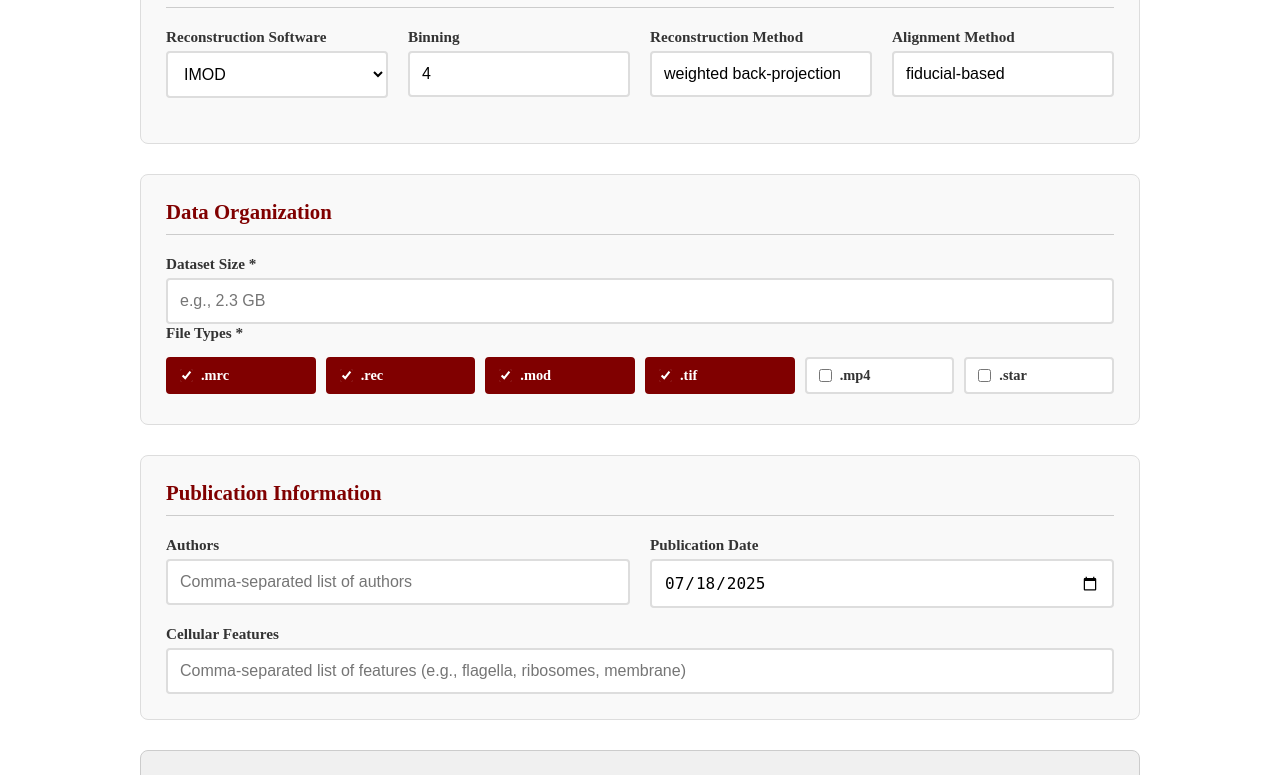
it: AddDatasetForm › Form Validation › should validate that at least one file type is selected
The image size is (1280, 775).
(page scrolled)
# Uncheck all default file types
Click the checkbox labelled ".mrc": [186, 376] box [180,369,193,382]
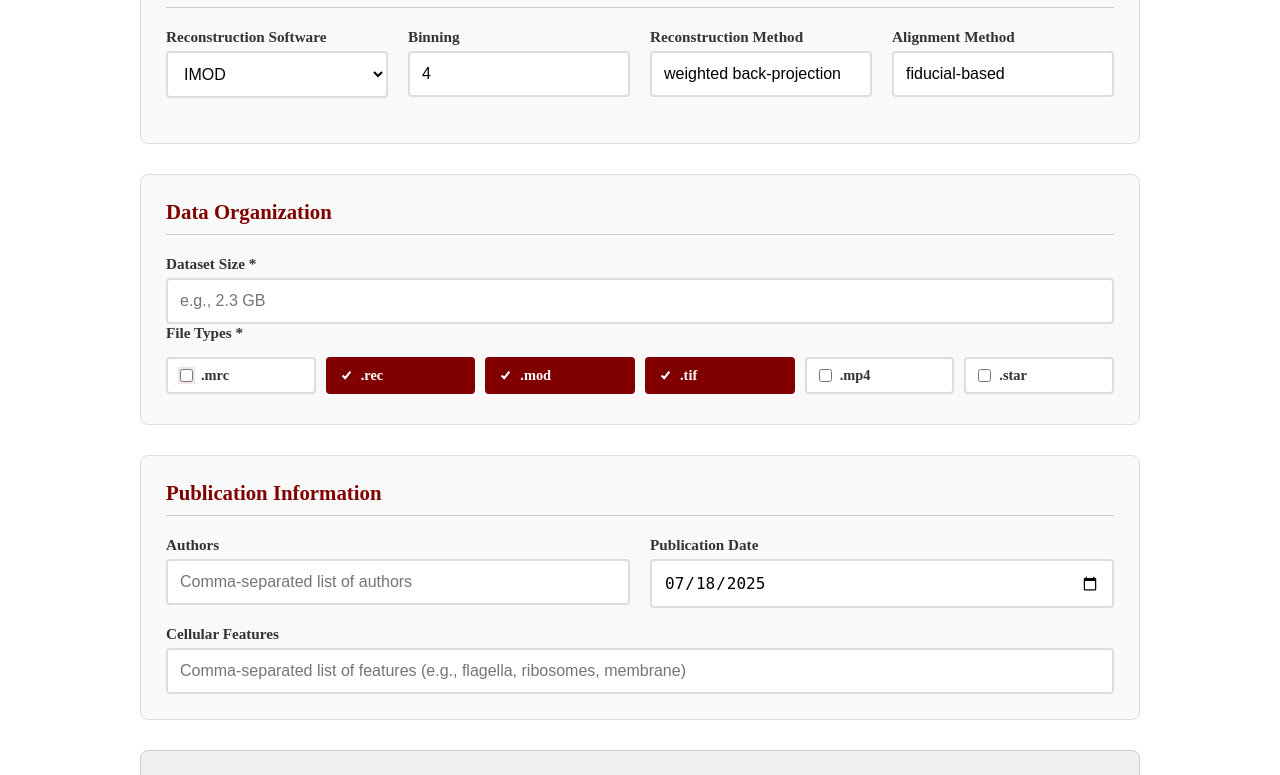
Click the checkbox labelled ".rec": [346, 376] box [340,369,353,382]
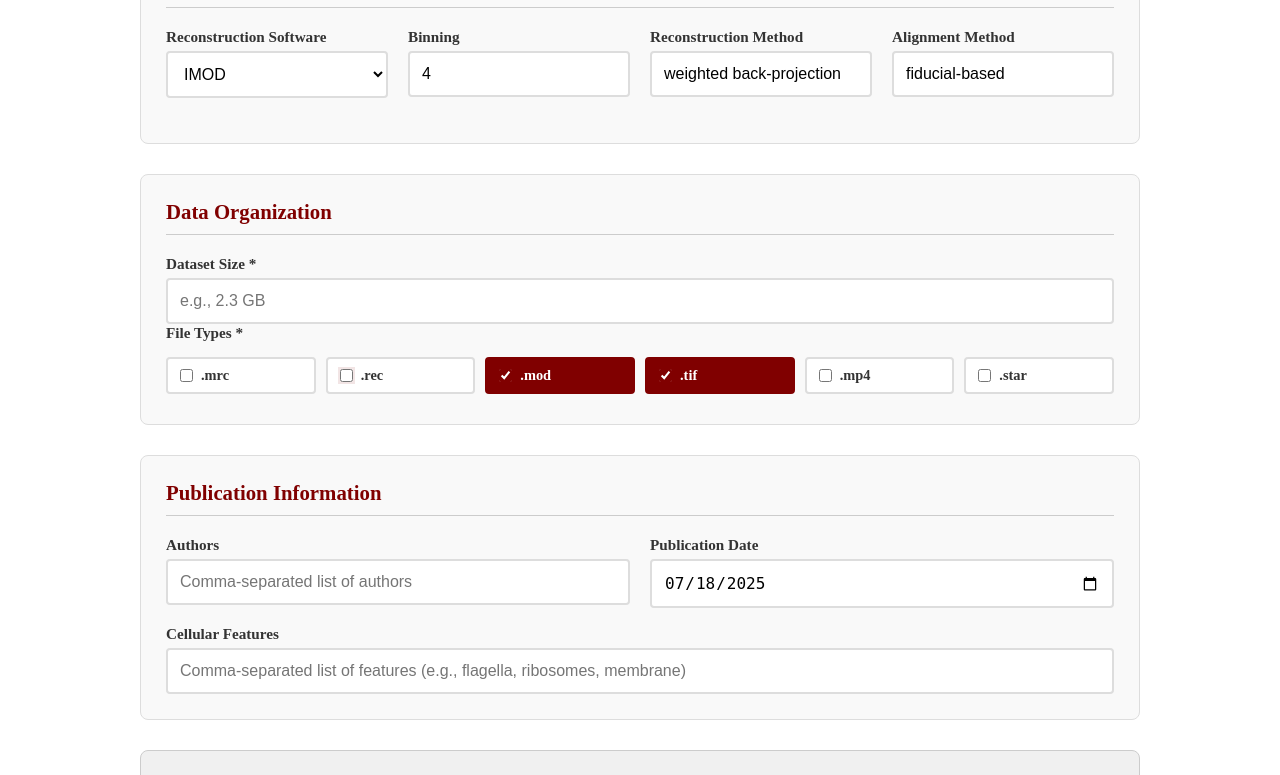
Click the checkbox labelled ".mod": [506, 376] box [499,369,512,382]
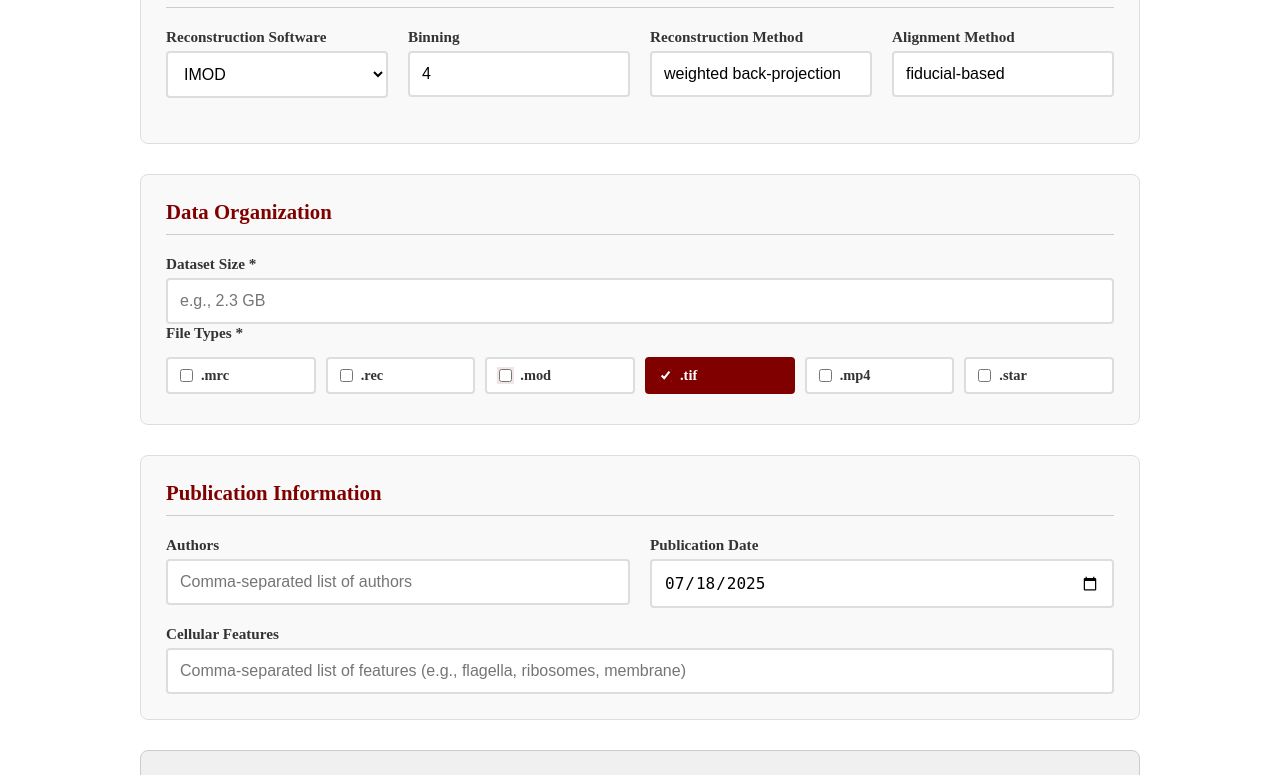
Click the checkbox labelled ".tif": [666, 376] box [659,369,672,382]
(page scrolled)
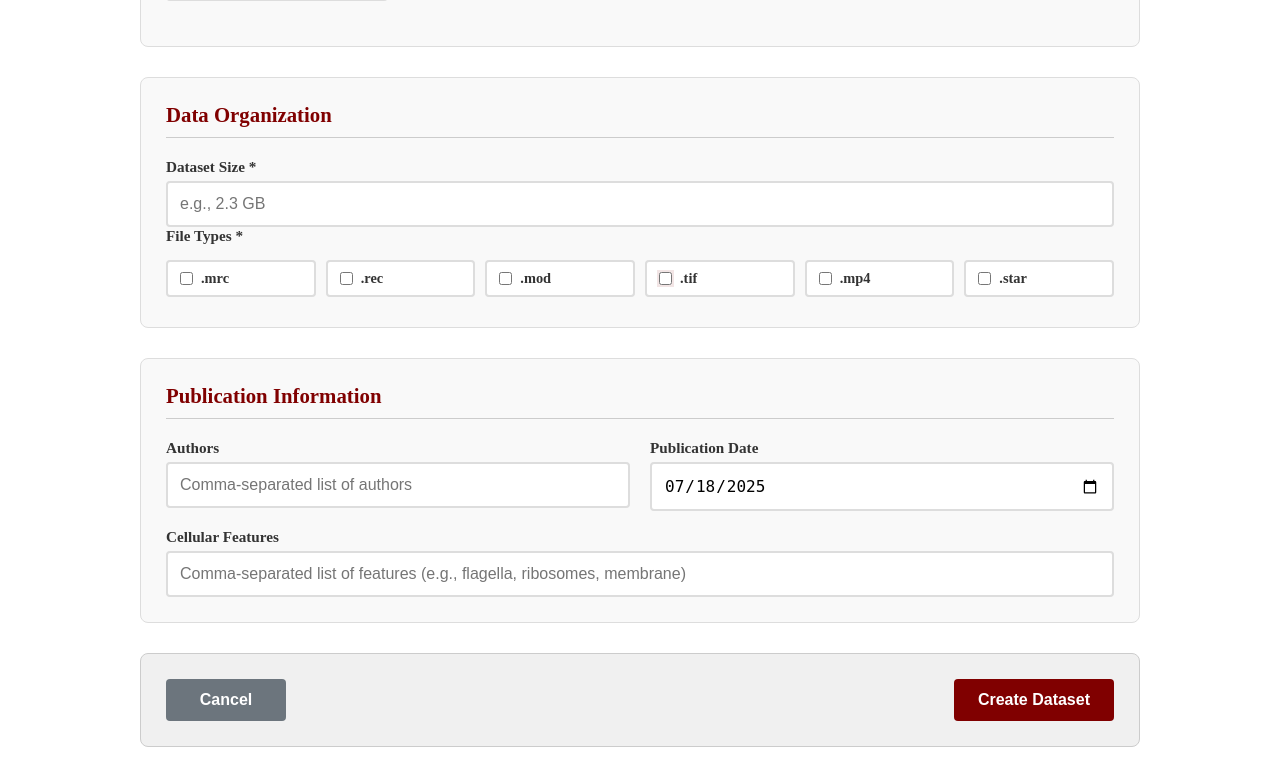
Click the button "Create Dataset": [1034, 700] box [954,679,1114,721]
(page scrolled)
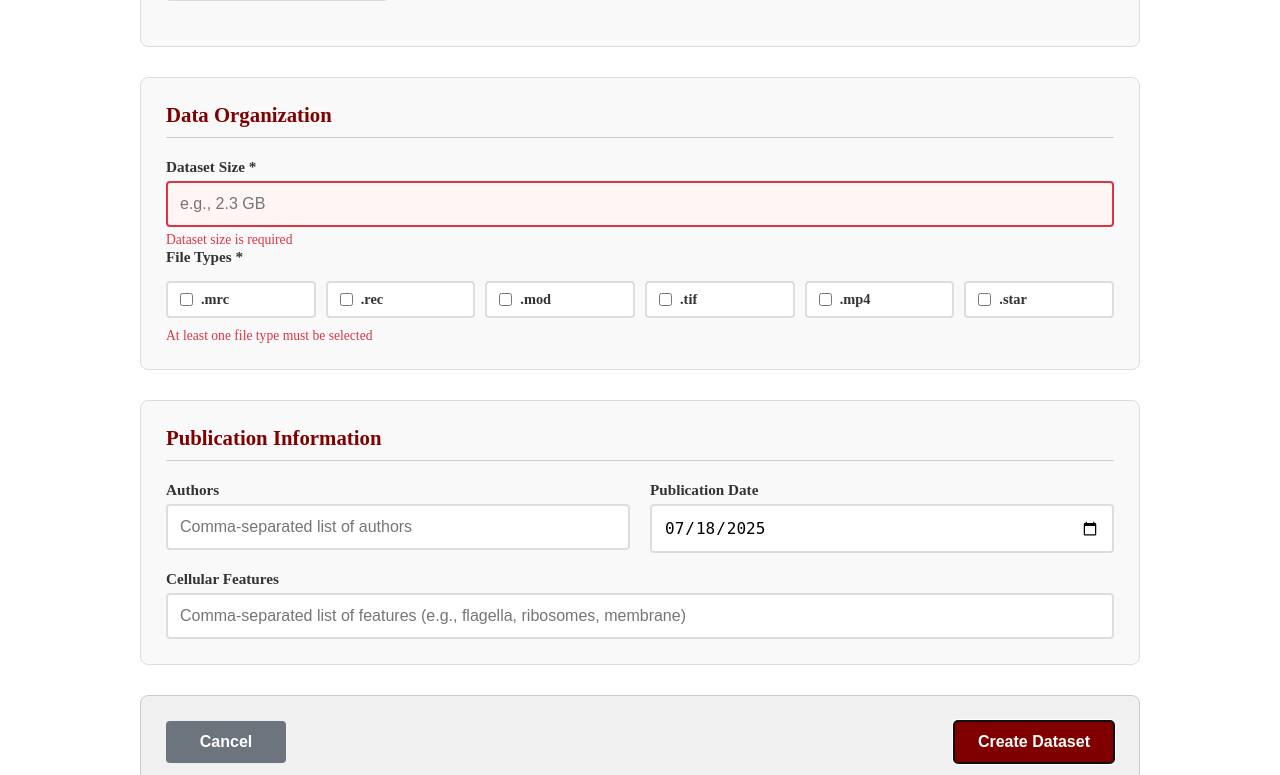
Expected: the text "At least one file type must be selected" is shown, [166,328,372,343]
